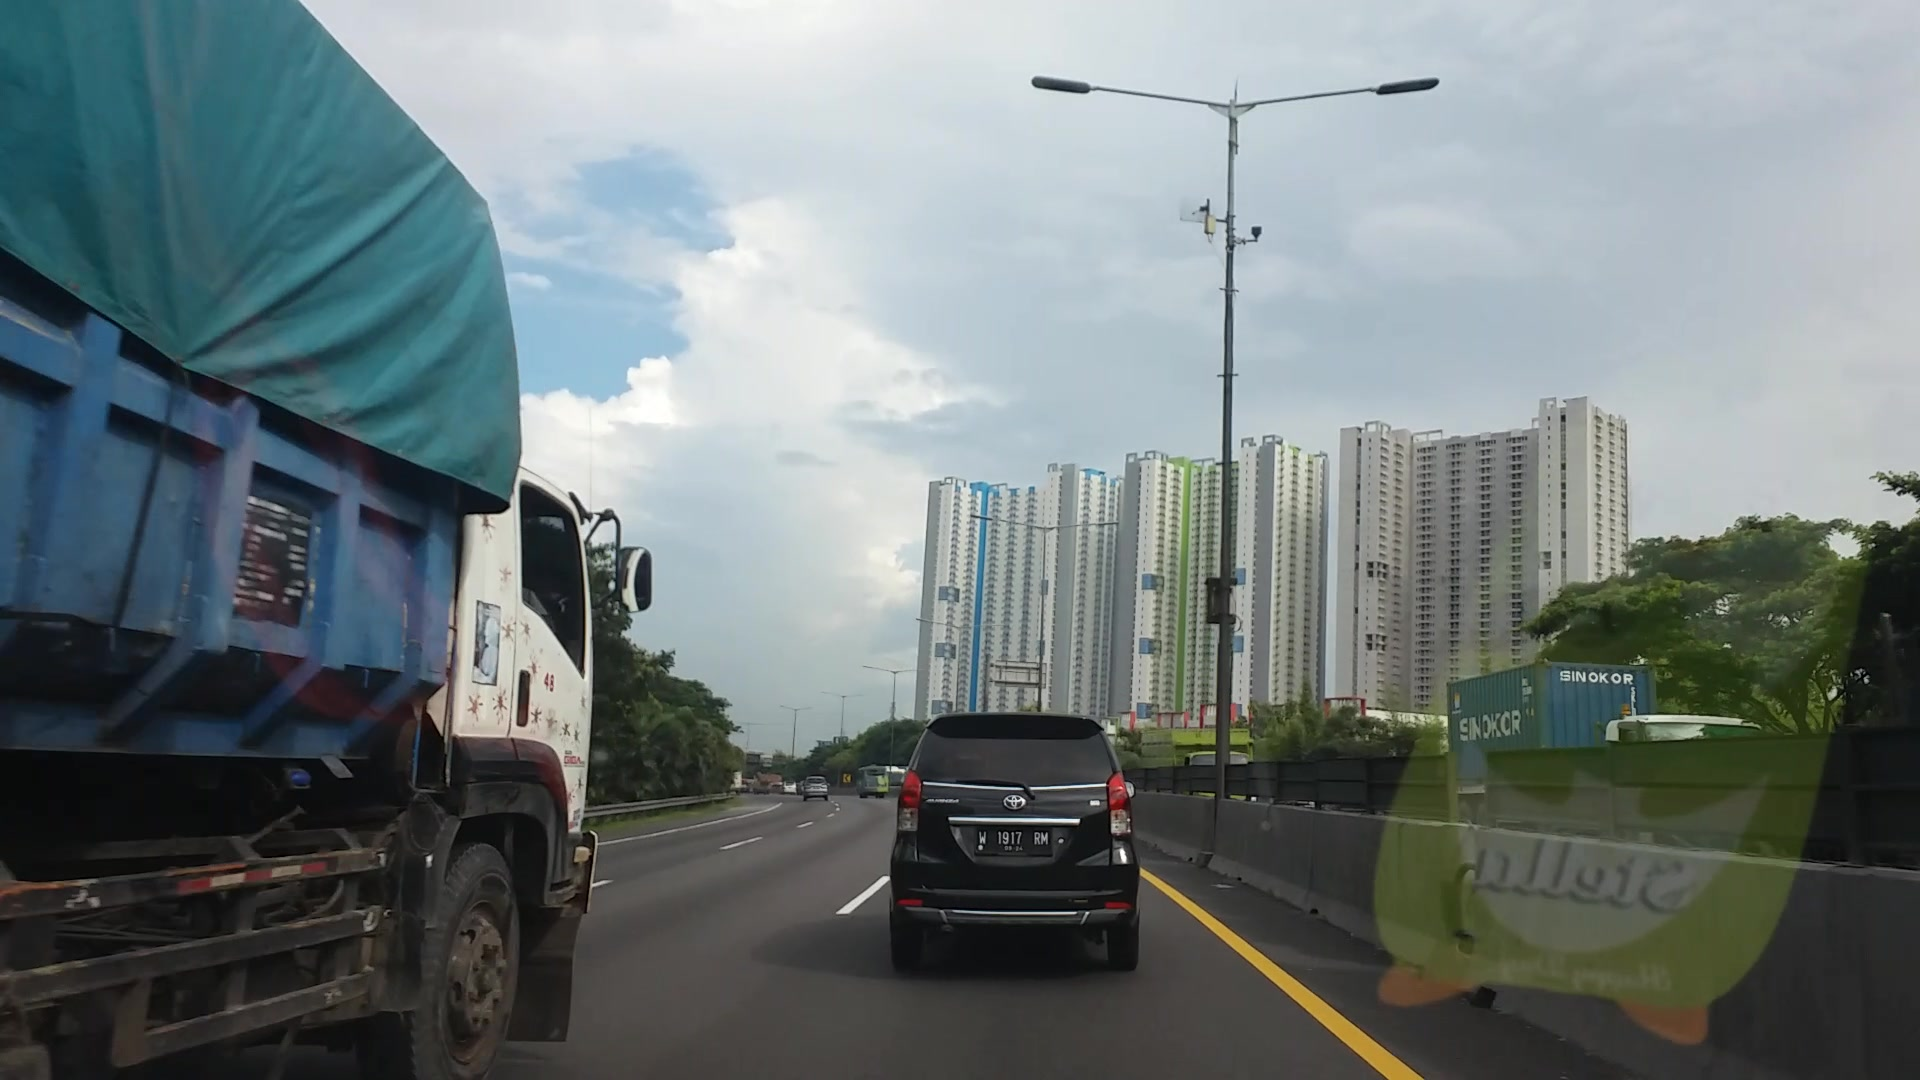plate_positive: (976, 828, 1051, 853)
